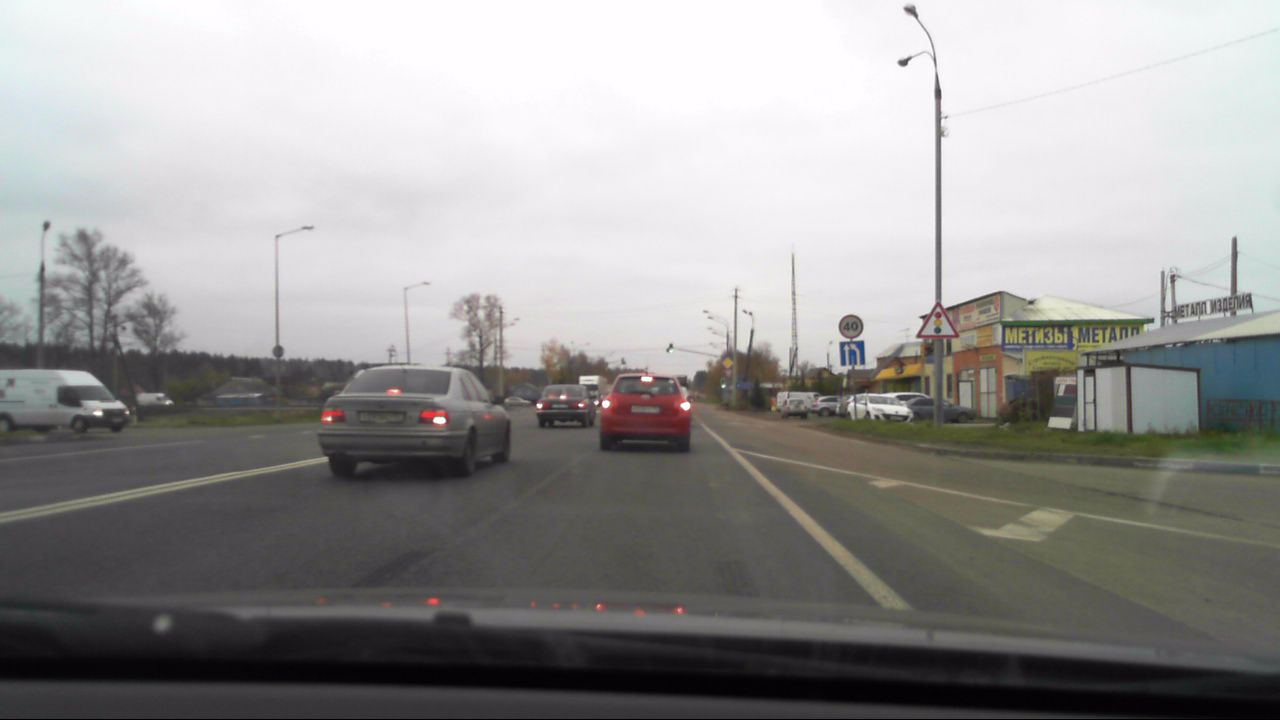speed_warning_40: (836, 312, 865, 341)
